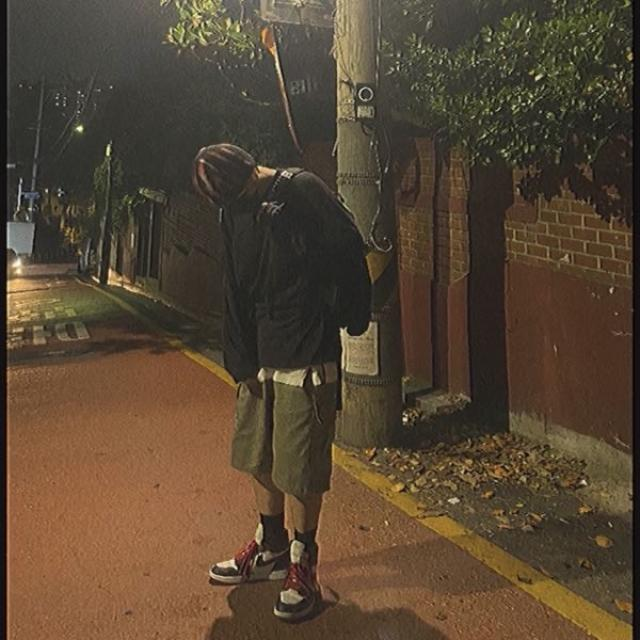longsleeve: (217, 173, 368, 384)
shortpants: (230, 363, 339, 493)
